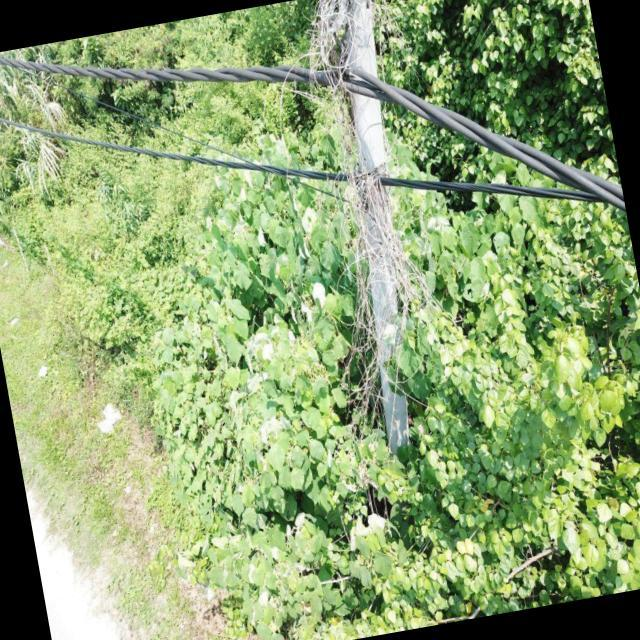critical vegetation: (283, 7, 480, 488)
